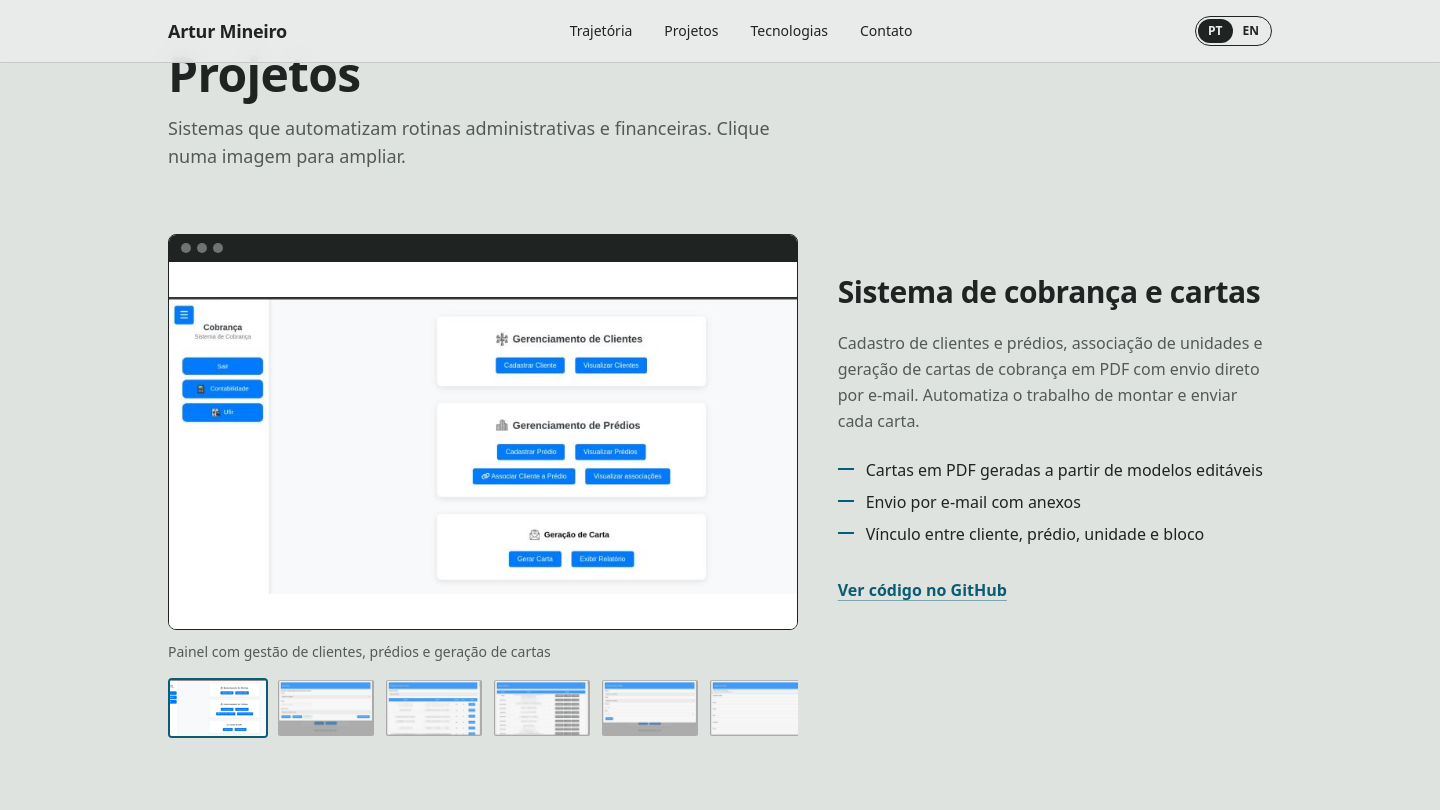
it: Portfólio › abre a galeria, navega com as setas e fecha
(page scrolled)
Click the button named "Ampliar imagem 1 de 7" at point(483, 445), box x1=169 y1=262 x2=797 y2=629
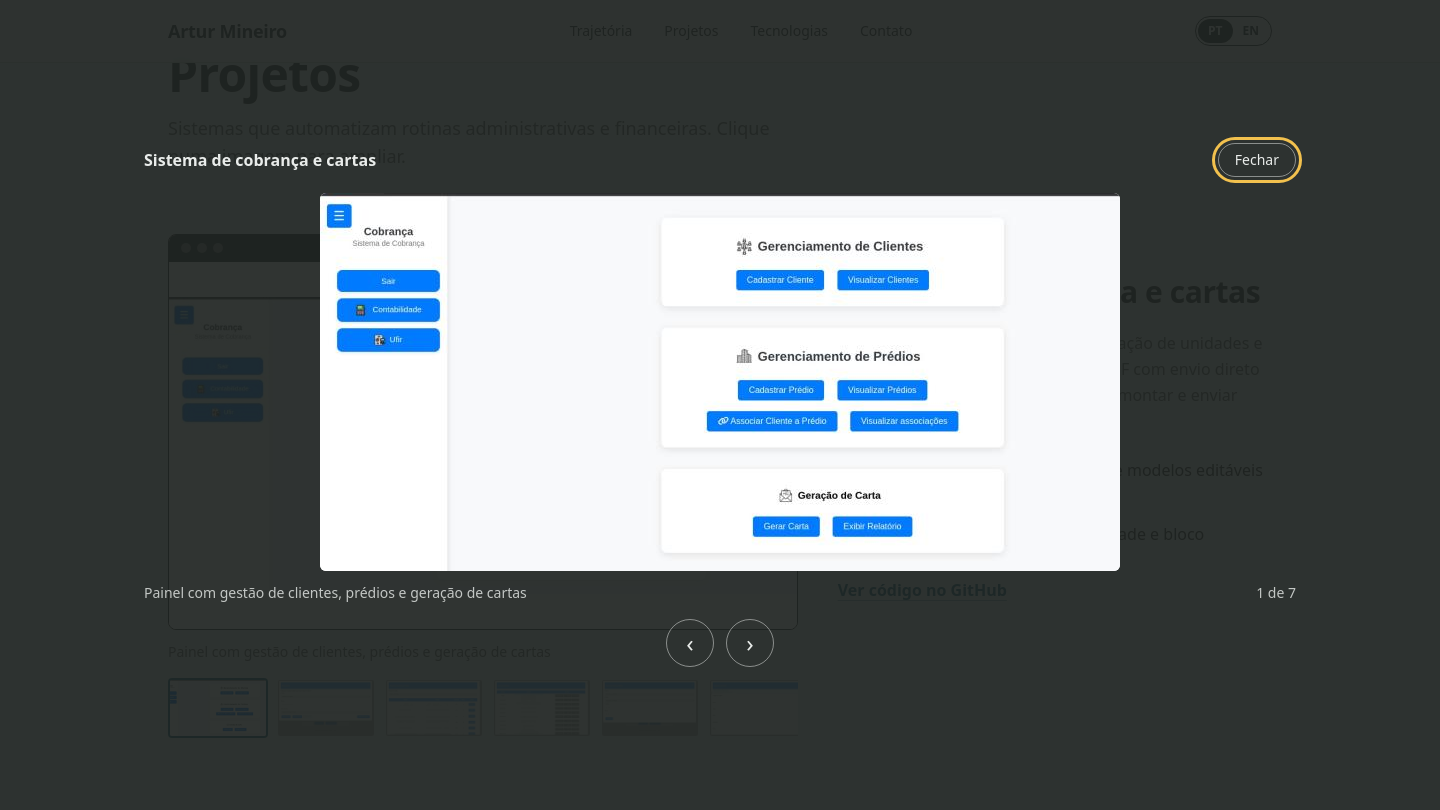
Click the button named "Próxima imagem" at point(750, 643), box x1=726 y1=619 x2=774 y2=667
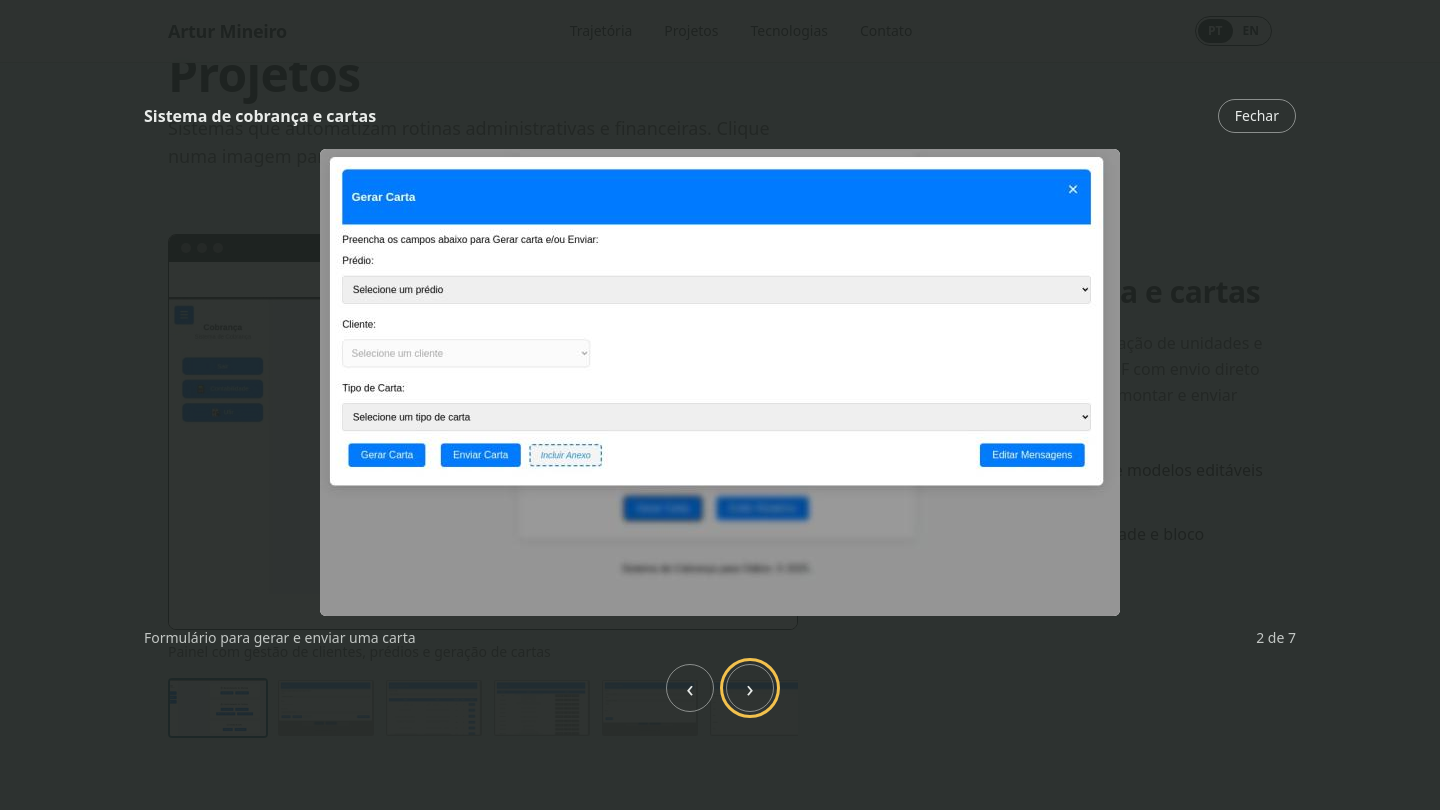
Click the button named "Imagem anterior" at point(690, 688), box x1=666 y1=664 x2=714 y2=712
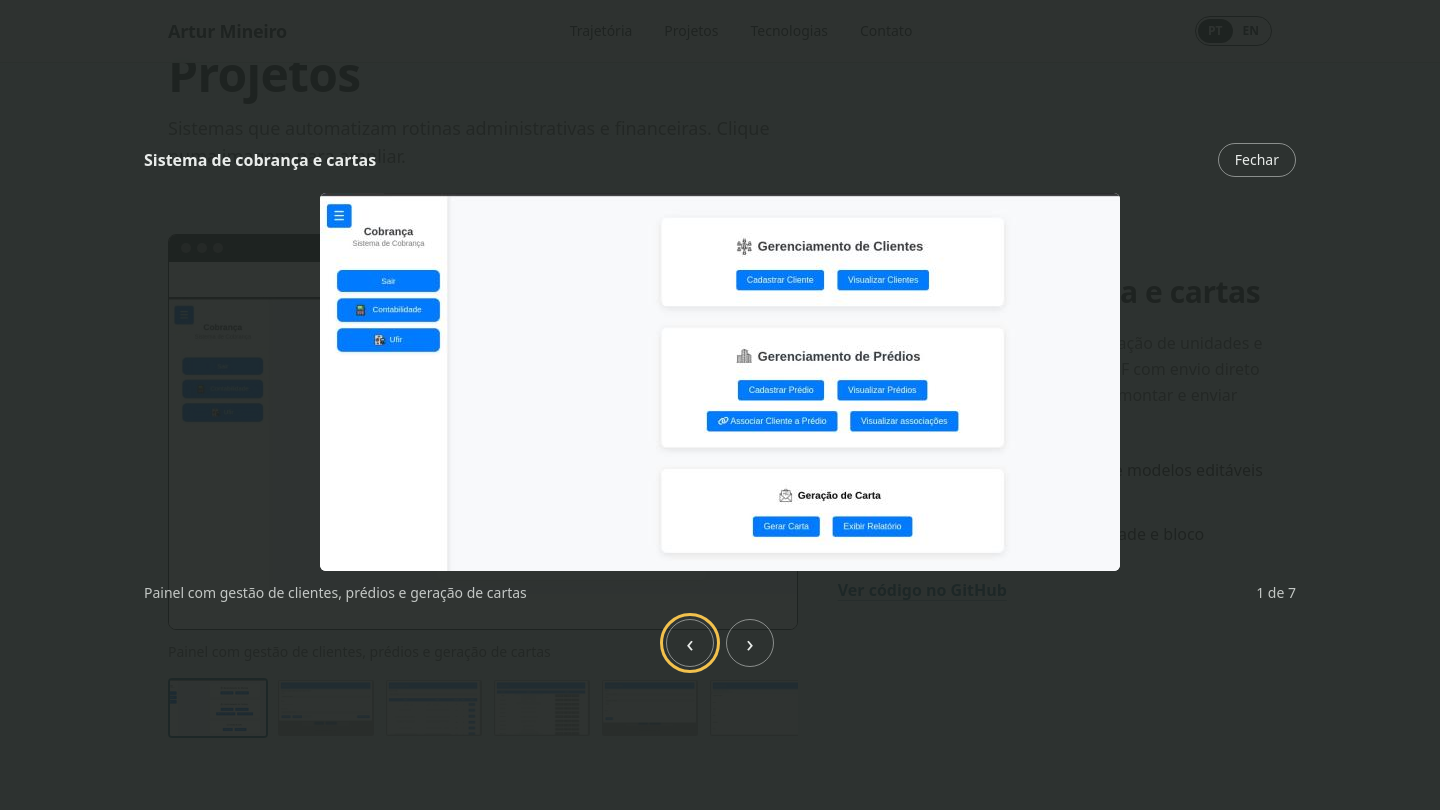
Click the button named "Imagem anterior" at point(690, 643), box x1=666 y1=619 x2=714 y2=667
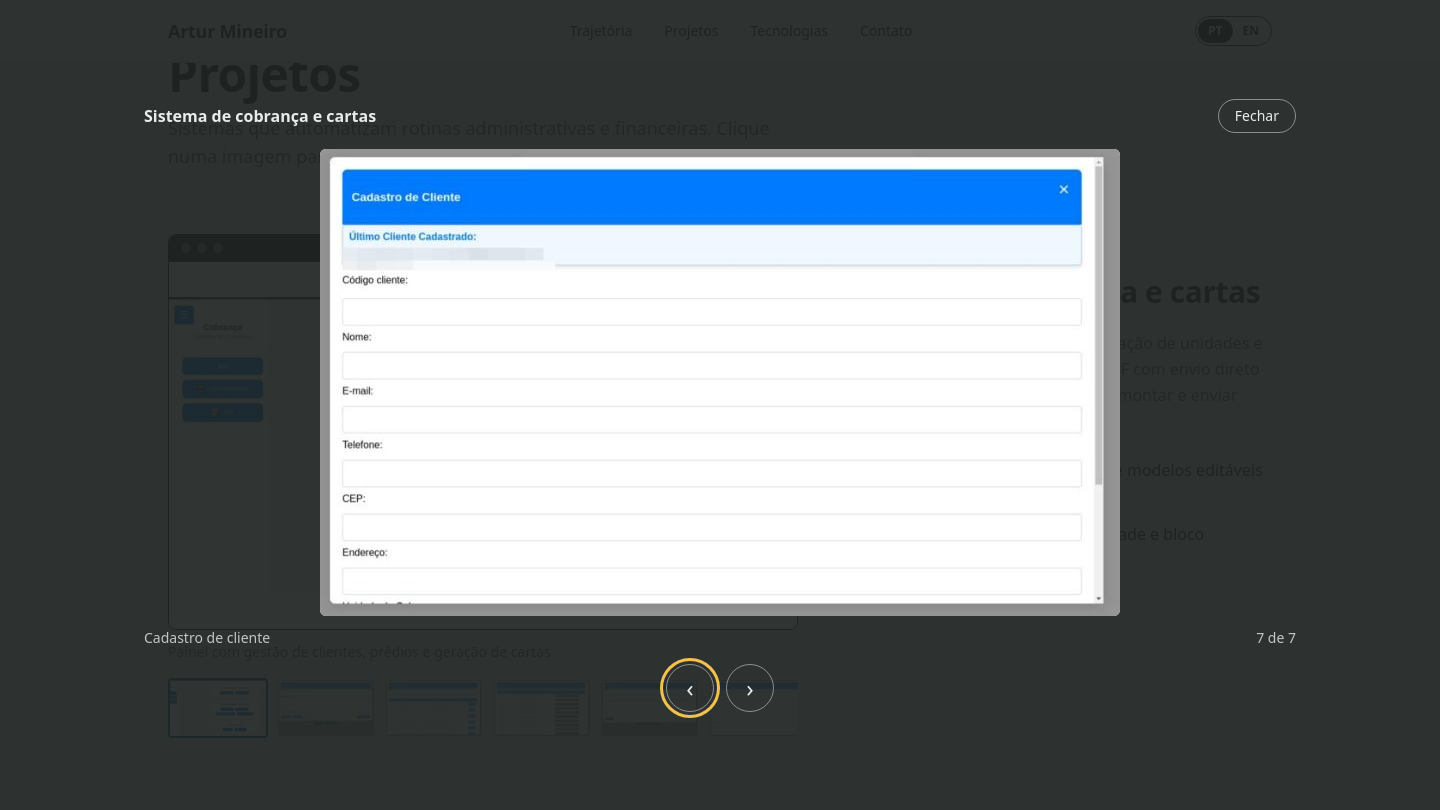
Click the button "Fechar" at point(1257, 116), box x1=1218 y1=98 x2=1296 y2=132
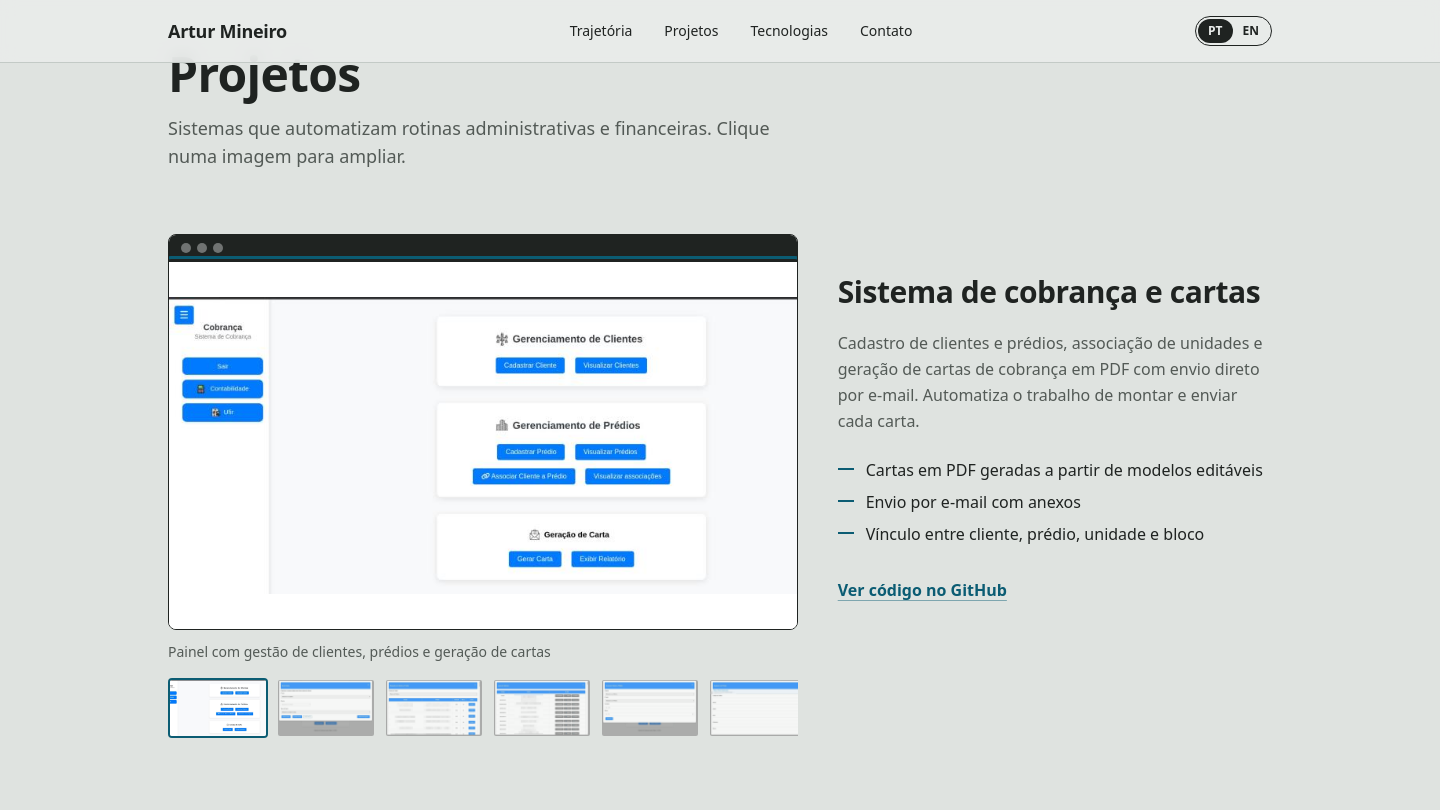
Check: the dialog is gone
